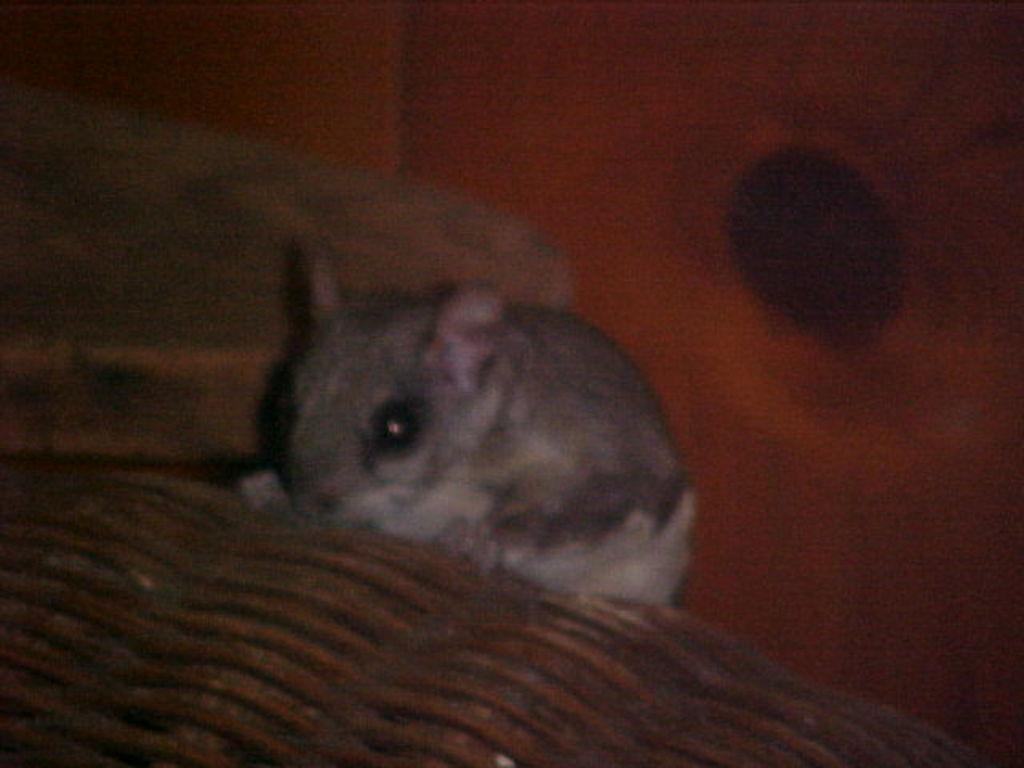mouse: (253, 255, 695, 604)
